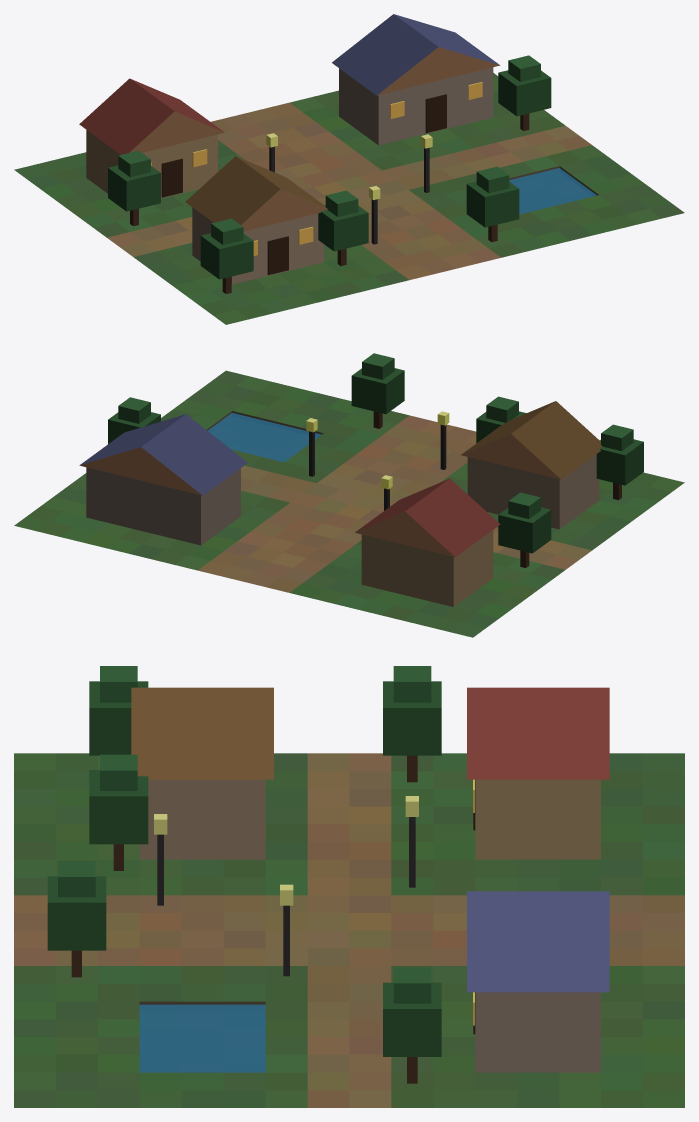
3 views of the same model, one above another, from view 1: azimuth 30°, elevation 25°; view 2: azimuth 150°, elevation 25°; view 3: azimuth 270°, elevation 25° (orthographic). The views are drawn at different scales.
Visible parts, largest first — view 1: scenery; view 2: scenery; view 3: scenery.
Boxes of the visible parts, x1=… form: scenery: x1=14, y1=14, x2=684, y2=324; scenery: x1=14, y1=353, x2=684, y2=637; scenery: x1=14, y1=666, x2=684, y2=1107.
Bounding box in the file's own units: 20 × 3.85 × 16.
